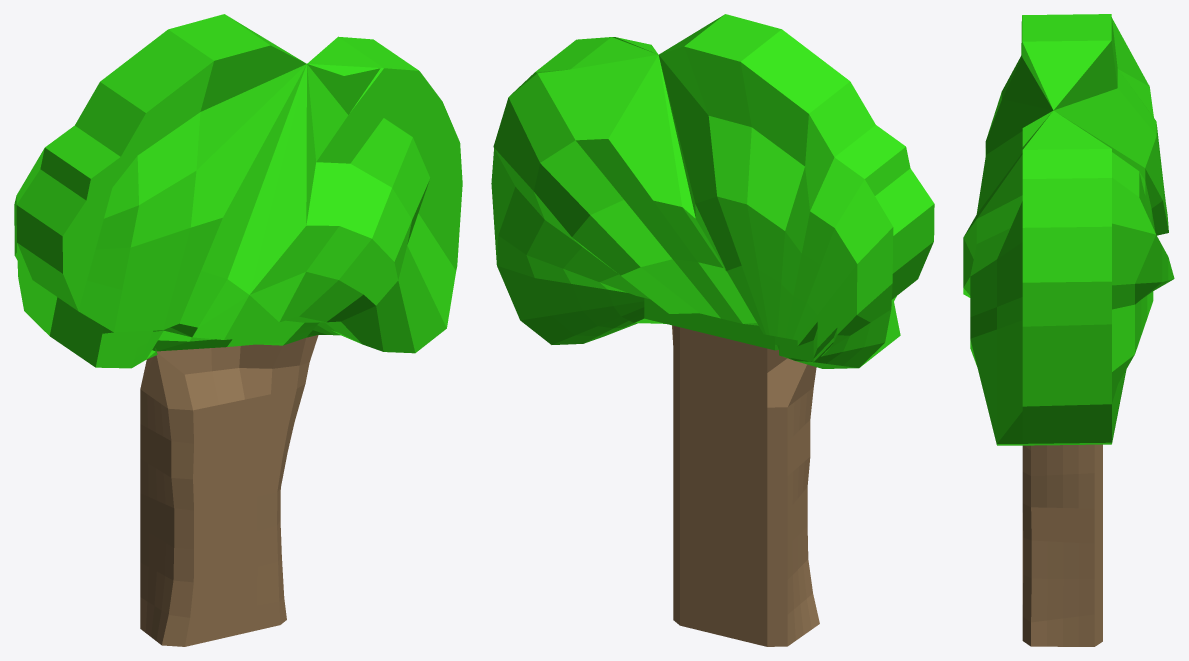
The model's file is tree.fbx.
The picture shows the model from 3 angles, left to right: view 1: azimuth 30°, elevation 25°; view 2: azimuth 150°, elevation 25°; view 3: azimuth 270°, elevation 25°; orthographic projection. The views are drawn at different scales.
Parts seen in each view (by area): view 1: Cube; view 2: Cube; view 3: Cube.
Part boxes in pixels (bbox=[...]): Cube: bbox=[14, 14, 462, 646]; Cube: bbox=[491, 14, 934, 646]; Cube: bbox=[963, 14, 1174, 646].
Bounding box in the file's own units: 354 × 490 × 157.
